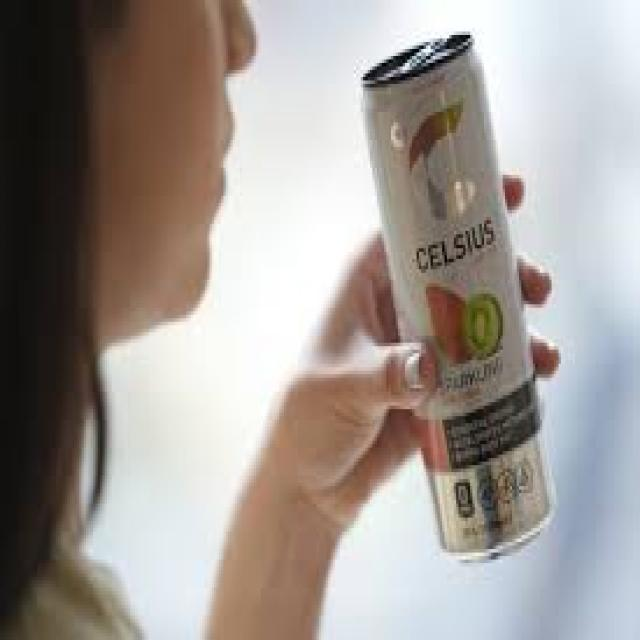Cans: (351, 18, 561, 574)
